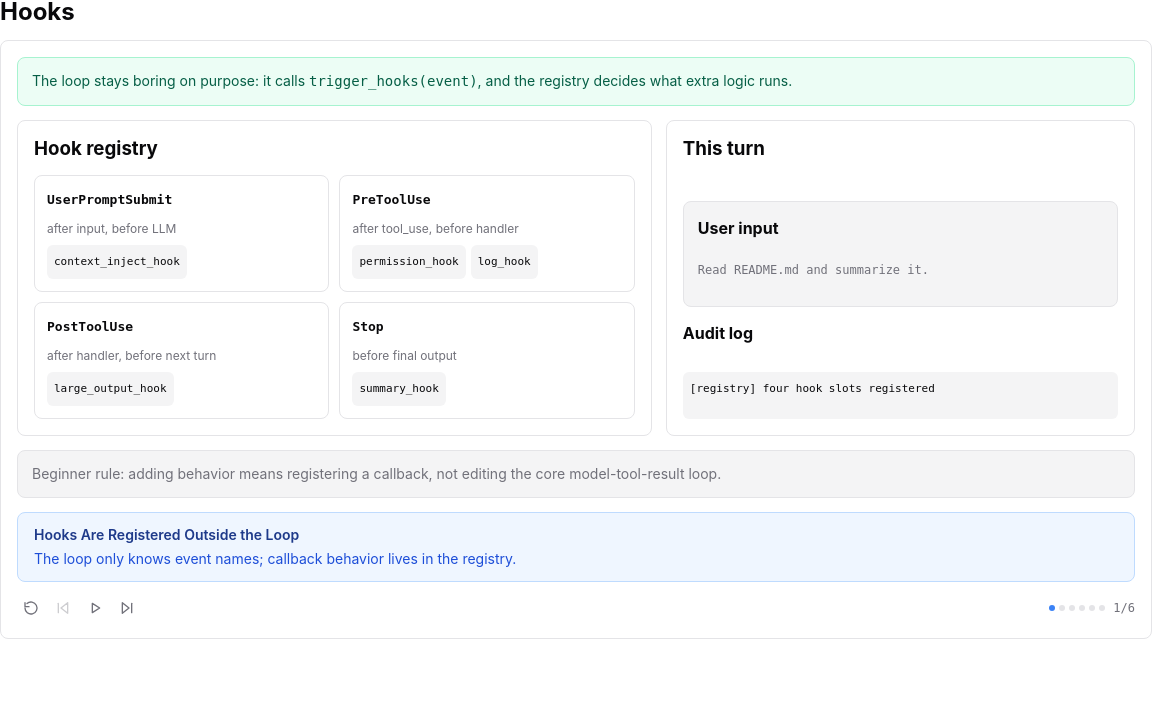
S04Hooks › renders the hook registry and advances through hook events
This screenshot has width=1152, height=720.
Click the button titled "Next step": click(127, 608) x1=113 y1=594 x2=141 y2=622
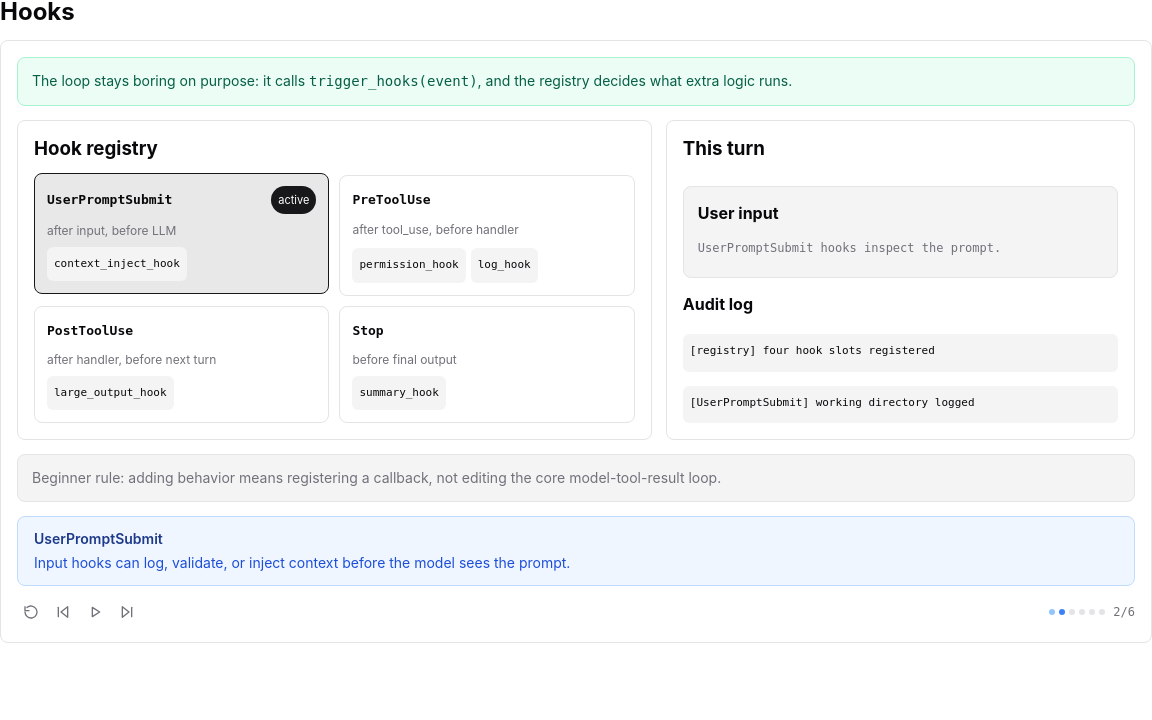
Click the button titled "Next step": click(127, 612) x1=113 y1=598 x2=141 y2=626
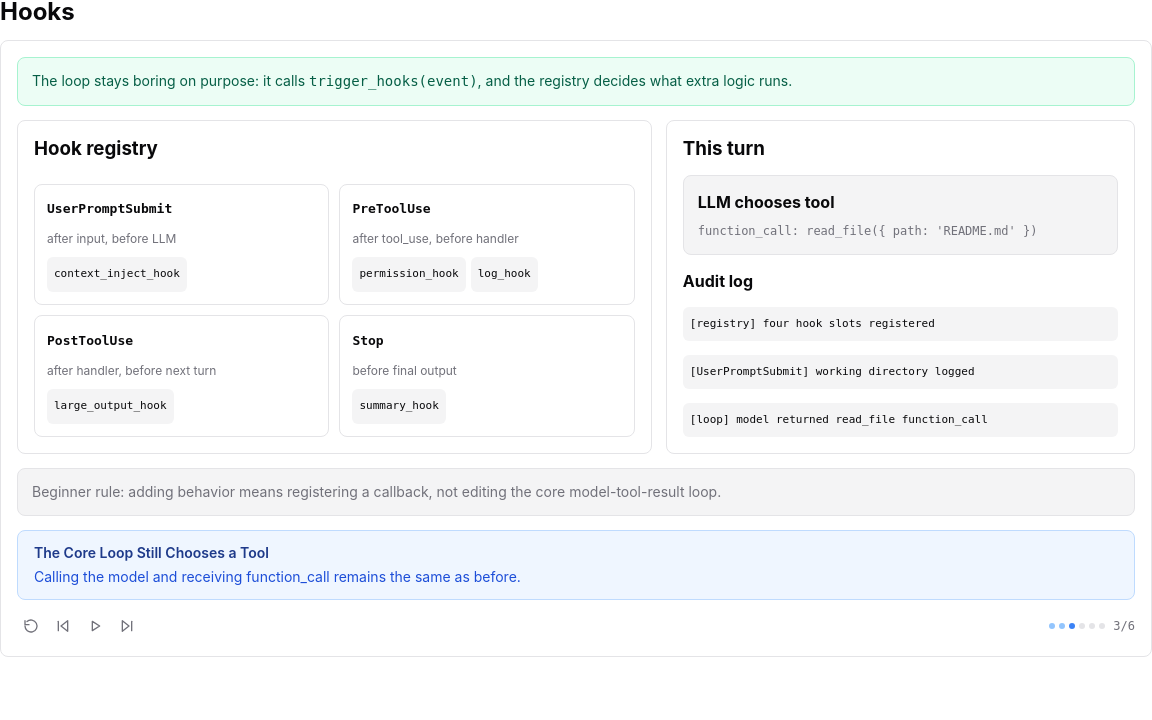
Click the button titled "Next step": click(127, 626) x1=113 y1=612 x2=141 y2=640
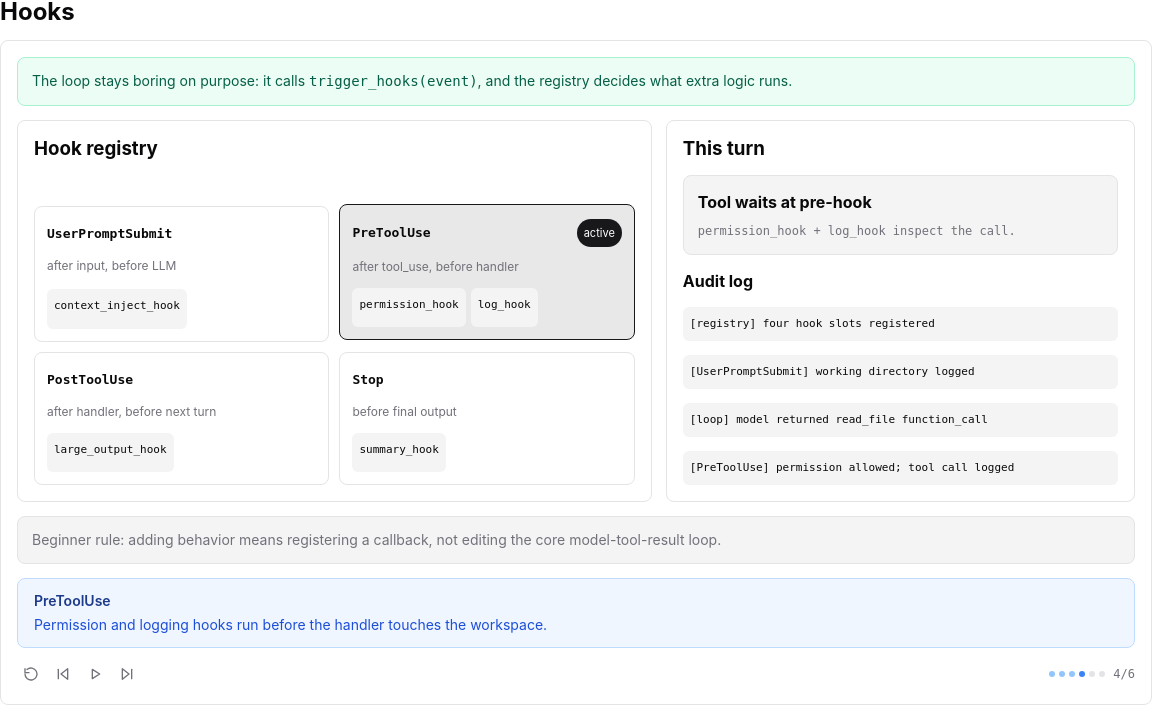
Now the text "Permission and logging hooks run before the handler" is shown, box x1=34 y1=616 x2=547 y2=633
